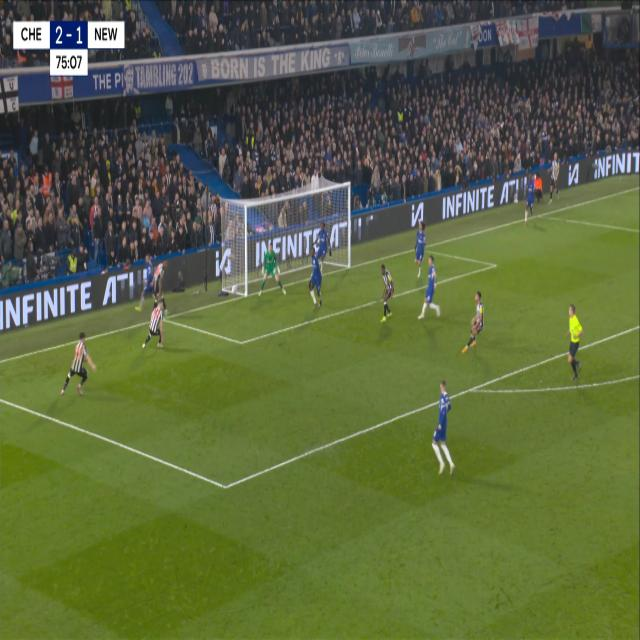Ball: (231, 280, 240, 298)
Chelsea: (429, 374, 458, 479), (305, 217, 333, 314), (417, 253, 442, 327)
Chelsea keeper: (259, 241, 287, 296)
New castle: (58, 327, 99, 403), (462, 286, 486, 360), (140, 297, 168, 354), (377, 259, 395, 328)
Refree: (563, 299, 585, 385)
